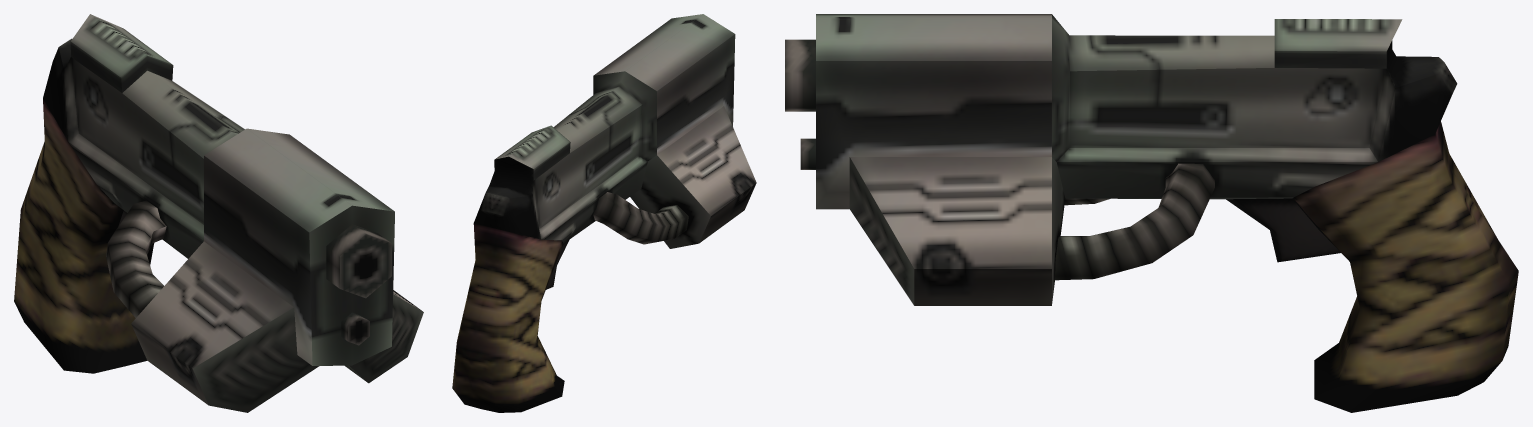
Rendered from Pistol.FBX.
The picture shows the model from 3 angles, left to right: view 1: azimuth 30°, elevation 25°; view 2: azimuth 150°, elevation 25°; view 3: azimuth 270°, elevation 25°; orthographic projection. The views are drawn at different scales.
Parts seen in each view (by area): view 1: Pistol; view 2: Pistol; view 3: Pistol, Pistol_trigger.
Boxes of the visible parts, <box> form: Pistol: <box>14,14,423,412</box>; Pistol: <box>452,14,756,412</box>; Pistol: <box>785,14,1518,412</box>; Pistol_trigger: <box>1226,198,1340,262</box>.
Bounding box in the file's own units: 0.1306 × 0.177 × 0.3205.
